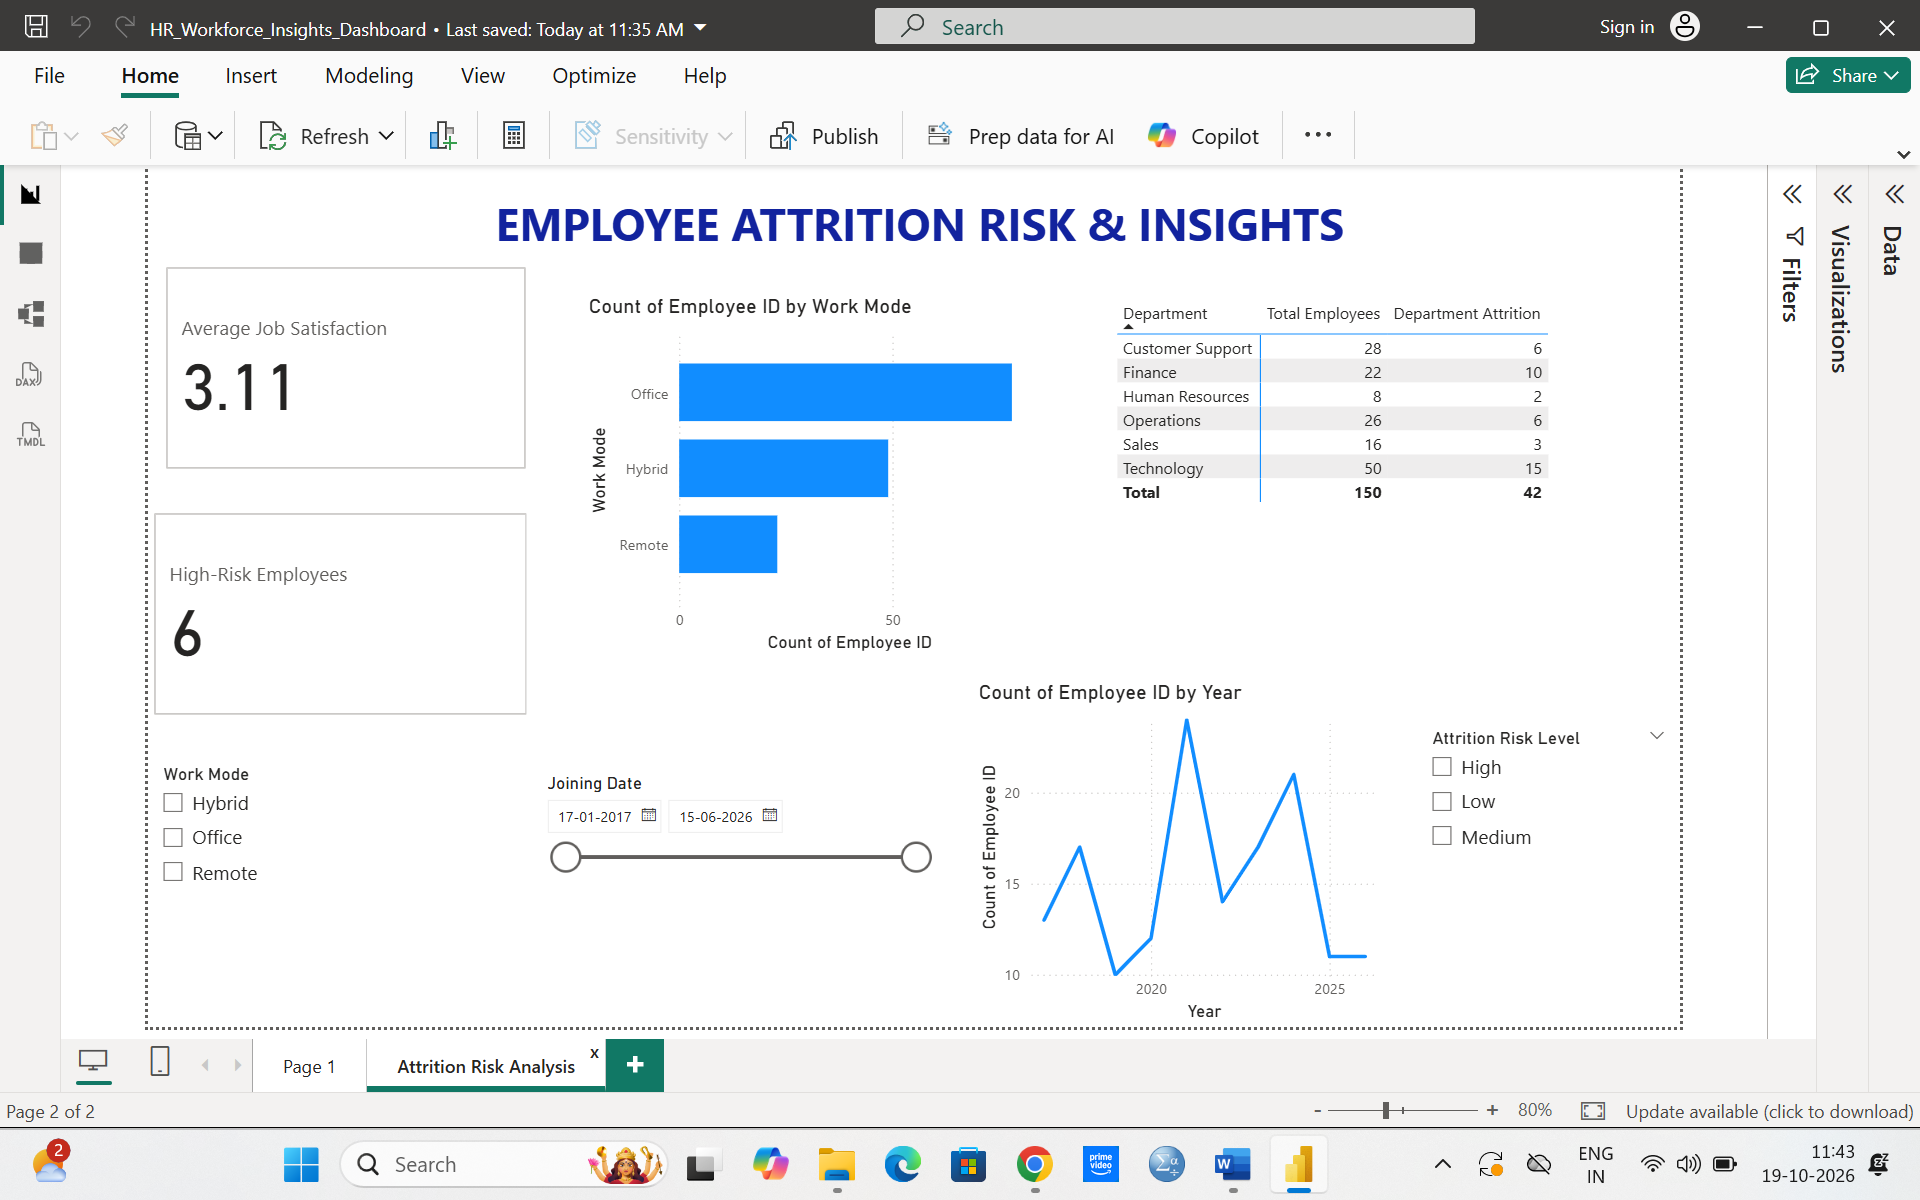

What the dashboard file says about the page in this screenshot:
{"tool":"powerbi","page":{"name":"Attrition Risk Analysis","canvas":[1280,720],"ordinal":1},"visuals":[{"type":"textbox","box":[10.3,0,1269.2,83.9],"z":0},{"type":"cardVisual","fields":{"Data":["EmployeeData.Average Job Satisfaction"]},"box":[10.6,80.3,310.4,178.7],"z":1},{"type":"cardVisual","fields":{"Data":["EmployeeData.High-Risk Employees"]},"box":[0,286.2,321,178.7],"z":2},{"type":"clusteredBarChart","fields":{"Category":["EmployeeData.Work Mode"],"Y":["CountNonNull(EmployeeData.Employee ID)"]},"box":[363.4,107.5,377,302.8],"z":3},{"type":"lineChart","fields":{"Category":["EmployeeData.Joining Date.Variation.Date Hierarchy.Year","EmployeeData.Joining Date.Variation.Date Hierarchy.Quarter","EmployeeData.Joining Date.Variation.Date Hierarchy.Month","EmployeeData.Joining Date.Variation.Date Hierarchy.Day"],"Y":["CountNonNull(EmployeeData.Employee ID)"]},"box":[689,430,345.2,289.2],"z":4},{"type":"pivotTable","fields":{"Rows":["EmployeeData.Department"],"Values":["EmployeeData.Total Employees","EmployeeData.Department Attrition"]},"box":[804,107.5,460.3,302.8],"z":5},{"type":"slicer","fields":{"Values":["EmployeeData.Attrition Risk Level"]},"box":[1059.9,464.9,219.6,254.4],"z":6},{"type":"slicer","fields":{"Values":["EmployeeData.Work Mode"]},"box":[0,495.1,377,224.1],"z":7},{"type":"slicer","fields":{"Values":["EmployeeData.Joining Date"]},"box":[321,502.7,342.2,178.7],"z":8}]}

Visuals, with their boxes on the page's 1280x720 design canvas (x1, y1, x2, y2). These are canvas units, not pixel positions in the 1920x1200 screenshot, which may show the page scaled, cropped or inside an application window:
textbox: select_region(10, 0, 1280, 84)
cardVisual - EmployeeData.Average Job Satisfaction: select_region(11, 80, 321, 259)
cardVisual - EmployeeData.High-Risk Employees: select_region(0, 286, 321, 465)
clusteredBarChart - EmployeeData.Work Mode x CountNonNull(EmployeeData.Employee ID): select_region(363, 108, 740, 410)
lineChart - EmployeeData.Joining Date.Variation.Date Hierarchy.Year x EmployeeData.Joining Date.Variation.Date Hierarchy.Quarter: select_region(689, 430, 1034, 719)
pivotTable - EmployeeData.Department x EmployeeData.Total Employees: select_region(804, 108, 1264, 410)
slicer - EmployeeData.Attrition Risk Level: select_region(1060, 465, 1280, 719)
slicer - EmployeeData.Work Mode: select_region(0, 495, 377, 719)
slicer - EmployeeData.Joining Date: select_region(321, 503, 663, 681)
